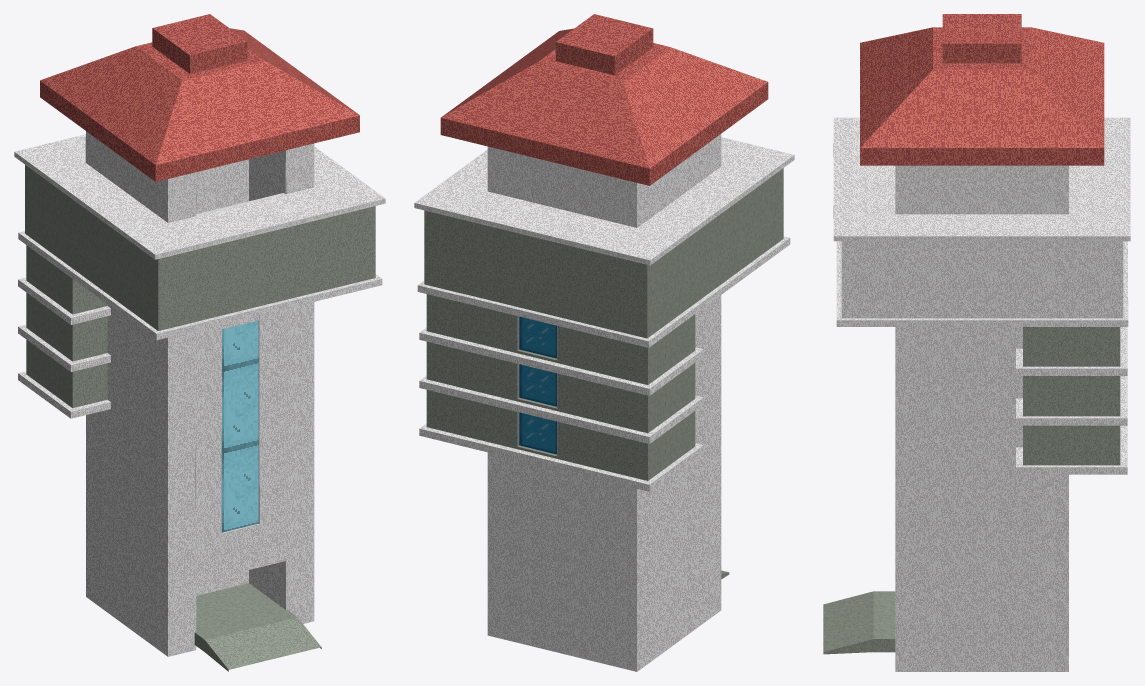
Rendered from BGN_PORT LIGHT HOUSE.fbx.
3 views of the same model, side by side, from view 1: azimuth 30°, elevation 25°; view 2: azimuth 150°, elevation 25°; view 3: azimuth 270°, elevation 25° (orthographic). The views are drawn at different scales.
Visible parts, largest first — view 1: BGN_PORT_LIGHT_HOUSE; view 2: BGN_PORT_LIGHT_HOUSE; view 3: BGN_PORT_LIGHT_HOUSE.
Boxes of the visible parts, <box> form: BGN_PORT_LIGHT_HOUSE: <box>14,14,385,671</box>; BGN_PORT_LIGHT_HOUSE: <box>414,14,794,671</box>; BGN_PORT_LIGHT_HOUSE: <box>823,14,1130,671</box>.
Bounding box in the file's own units: 990 × 2355 × 1084.
